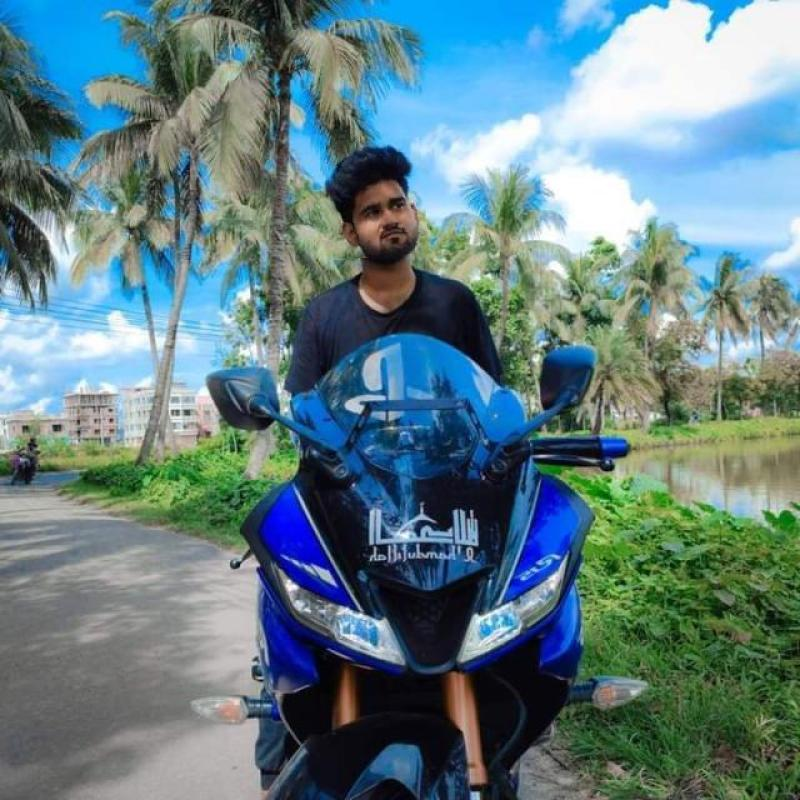nohelmet: (328, 139, 427, 259)
